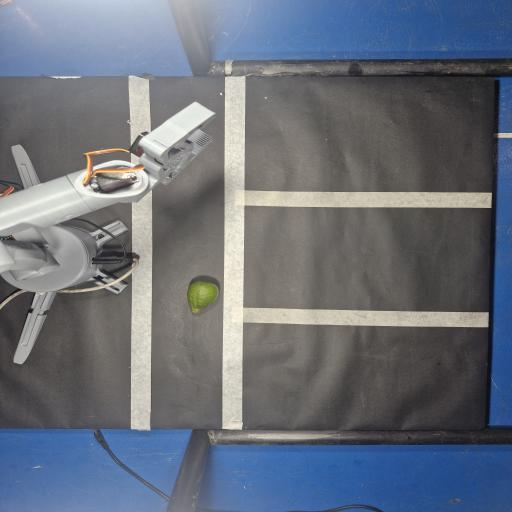higo: (187, 281, 219, 312)
